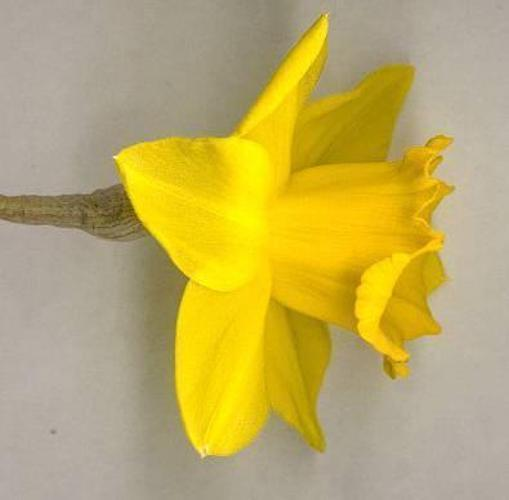flower1: (112, 13, 454, 459)
